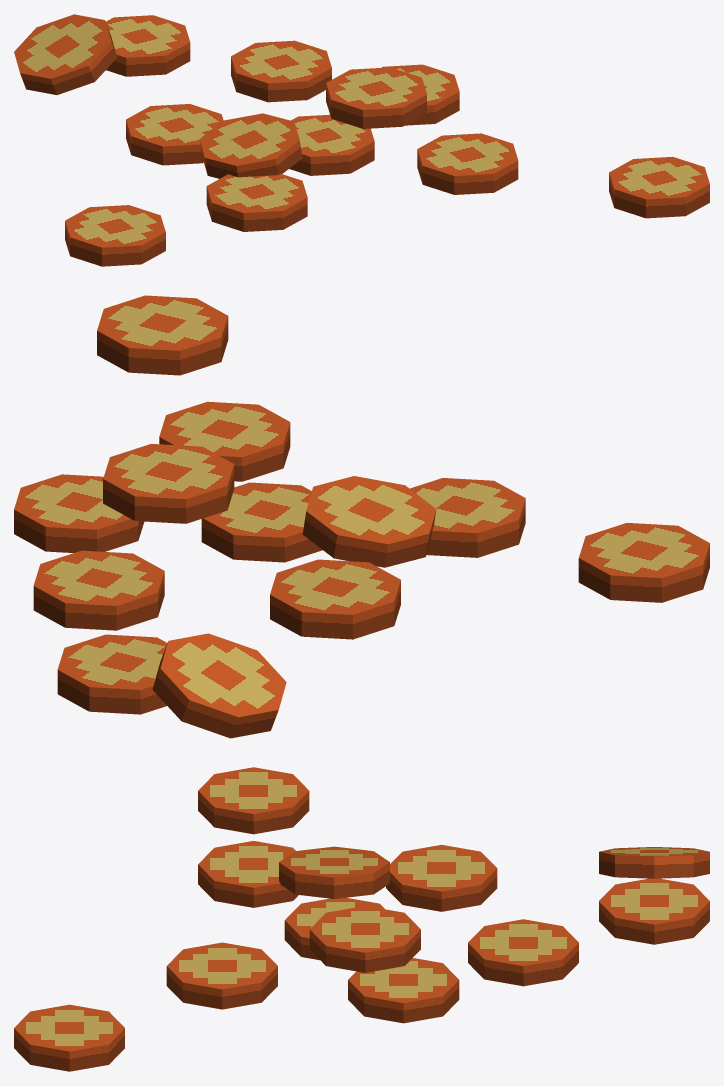
File: coins.obj
3 views of the same model, one above another, from view 1: azimuth 30°, elevation 25°; view 2: azimuth 150°, elevation 25°; view 3: azimuth 270°, elevation 25° (orthographic). The views are drawn at different scales.
Parts seen in each view (by area): view 1: Cylinder; view 2: Cylinder; view 3: Cylinder.
Boxes of the visible parts, left/top/right/bottom form: Cylinder: left=14, top=14, right=709, bottom=266; Cylinder: left=14, top=295, right=709, bottom=738; Cylinder: left=14, top=767, right=709, bottom=1071.
Size of the model in its own units: 38.74 by 3.39 by 40.07.
1 material, 1 textured.
